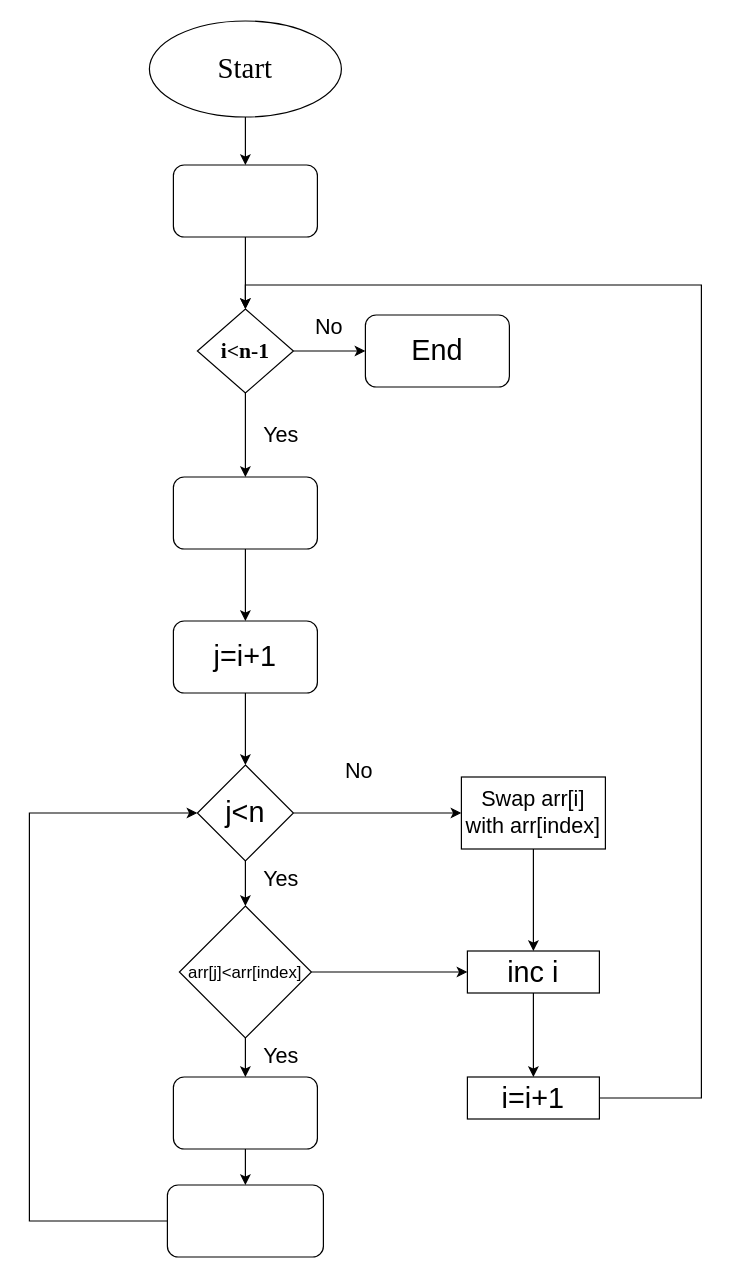
Some shapes in this 732 by 1278 pixel diagram are drawn without their labels. The box of each missing label's shape, as (x1, y1, x2, y2) in pixels:
i =0: (172, 164, 317, 237)
inc j: (166, 1184, 323, 1257)
index=i: (172, 476, 317, 549)
index=j: (172, 1076, 317, 1149)
